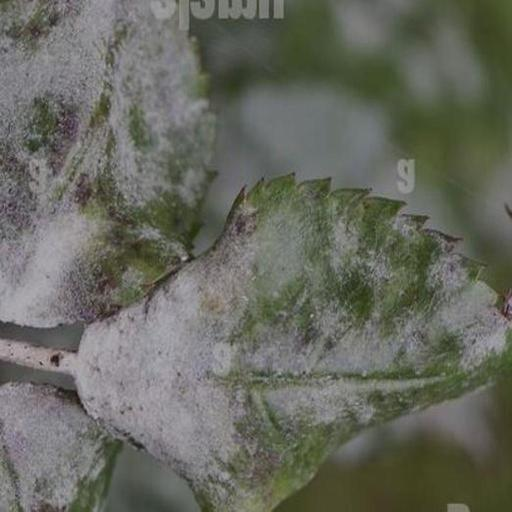powdery_mildew: (74, 176, 512, 512), (0, 0, 214, 327), (0, 382, 118, 512)
